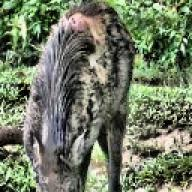boar: (20, 0, 136, 192)
